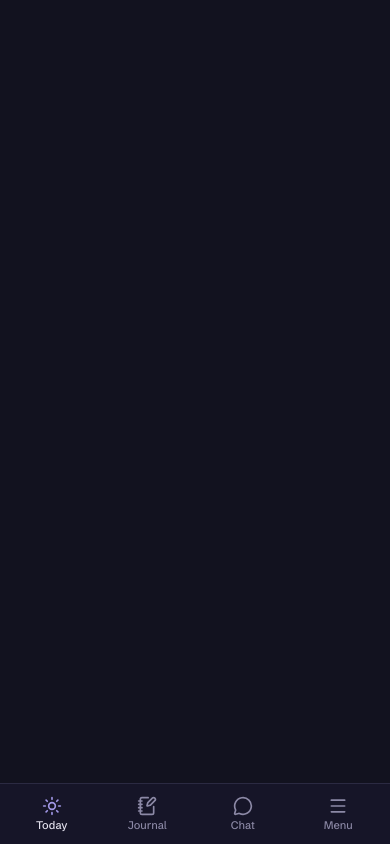
Test: PhoneNav › offers the daily three and a menu with every section
Check: the link "Today" is shown, box [36,796,68,832]
Check: the link "Journal" is shown, box [128,796,167,832]
Click the button "Menu": (338, 814) [290,790,386,838]
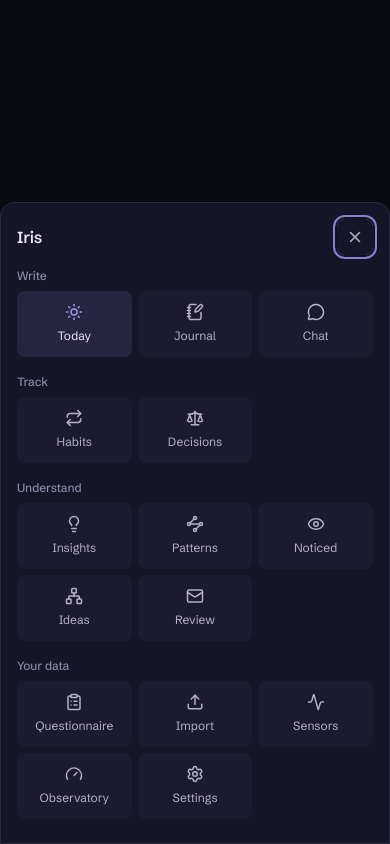
Check: the dialog "Iris" shows "Your data", box [17,658,69,673]
Check: the link "Sensors" is shown, box [258,681,373,747]
